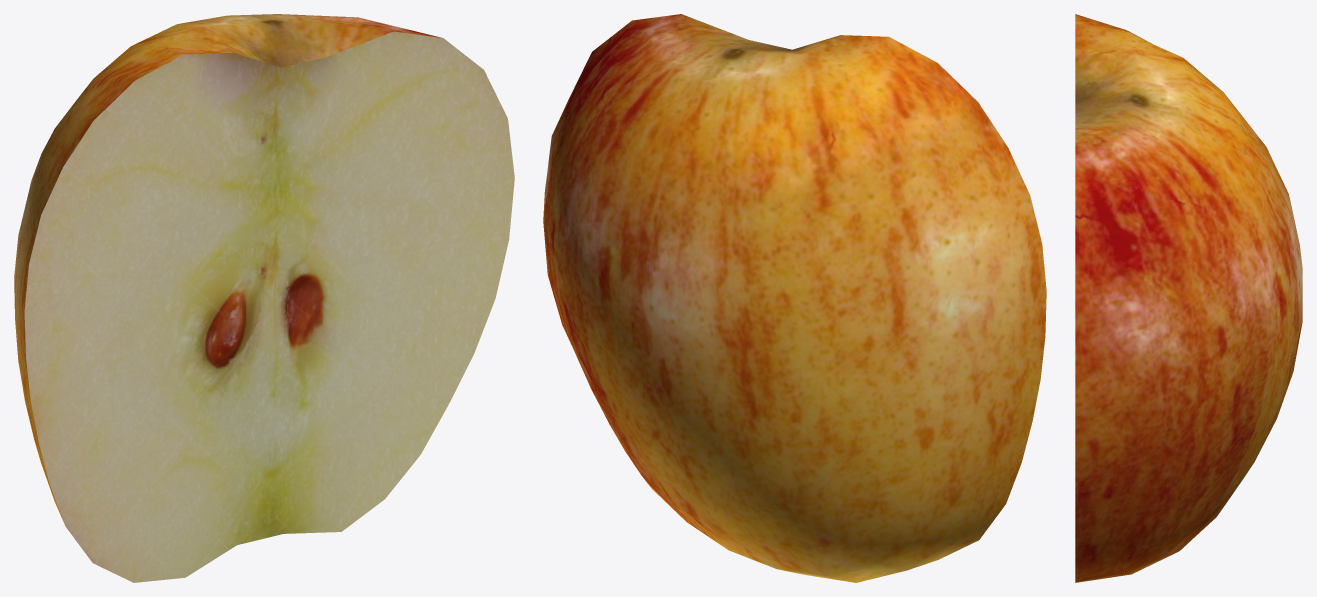
File: Apple_Half.fbx
3 renders of one model, left to right at view 1: azimuth 30°, elevation 25°; view 2: azimuth 150°, elevation 25°; view 3: azimuth 270°, elevation 25°, orthographic. The views are drawn at different scales.
Parts seen in each view (by area): view 1: Apple_Half; view 2: Apple_Half; view 3: Apple_Half.
Part boxes in pixels (x1,y1,x2,y2): Apple_Half: (14,14,514,582); Apple_Half: (543,14,1046,582); Apple_Half: (1075,14,1302,582).
Bounding box in the file's own units: 6403 × 6630 × 2724.
